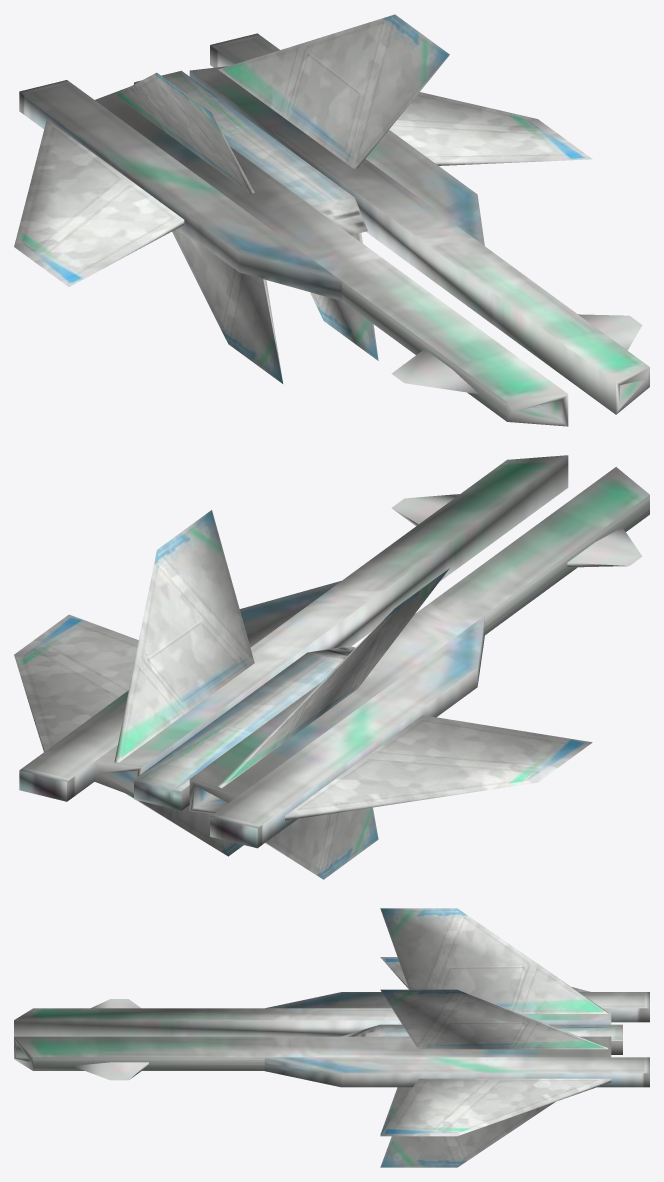
Rendered from anaxidamus.obj.
3 views of the same model, one above another, from view 1: azimuth 30°, elevation 25°; view 2: azimuth 150°, elevation 25°; view 3: azimuth 270°, elevation 25° (orthographic). The views are drawn at different scales.
Bounding box in the file's own units: 1320 × 696 × 1980.
1 material, 1 textured.
